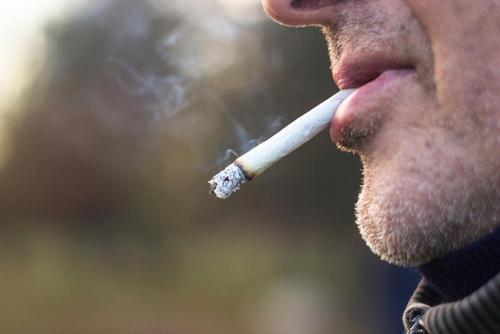smoke: (208, 61, 394, 200)
